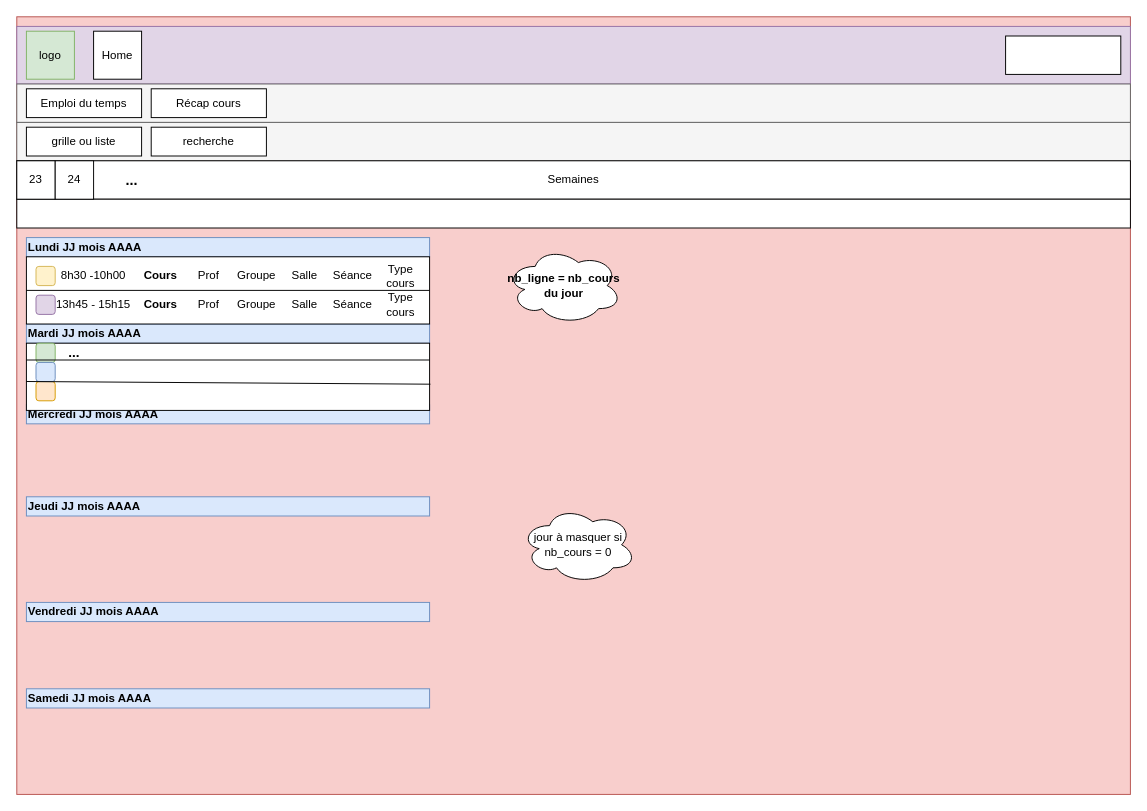
This 1147x811 diagram has some shape labels left out. Each missing label, with the centre of its shape:
Déco: (x=1063, y=54)
Mois: (x=573, y=213)
